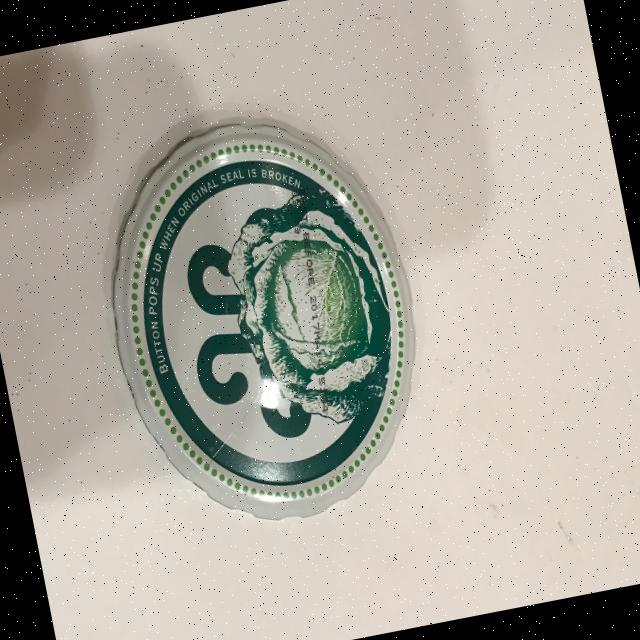metal: (78, 93, 450, 547)
